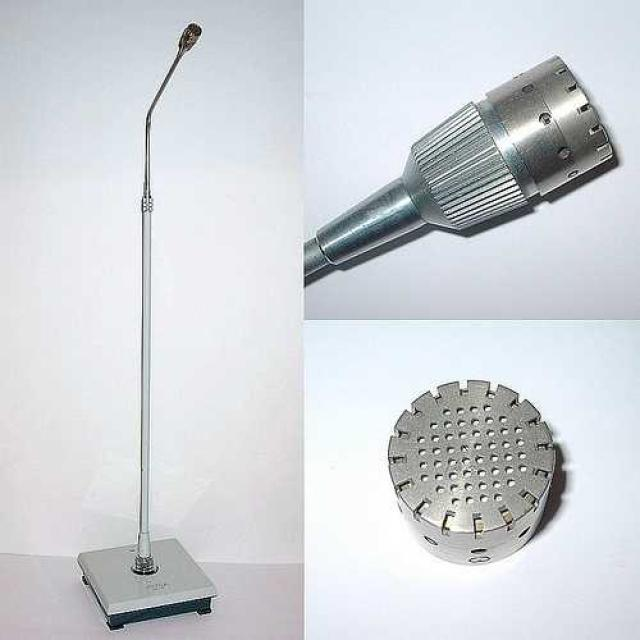microphone: (302, 55, 602, 289), (369, 363, 568, 572), (178, 23, 202, 53)
